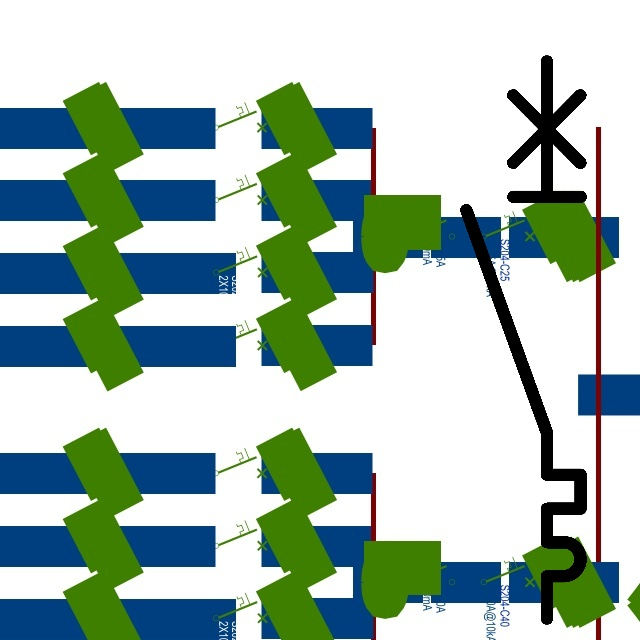interruptor_termomagnetico: (452, 47, 595, 633)
